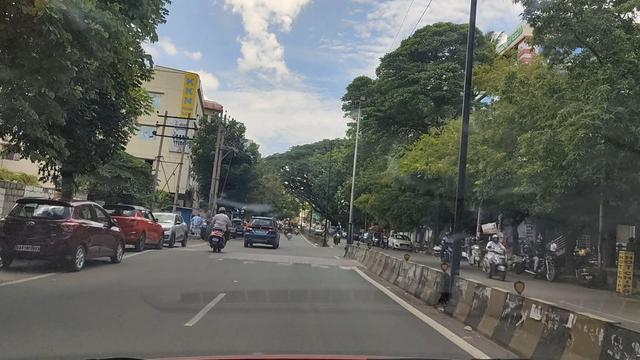LMV: (14, 195, 132, 272), (199, 199, 233, 251)
